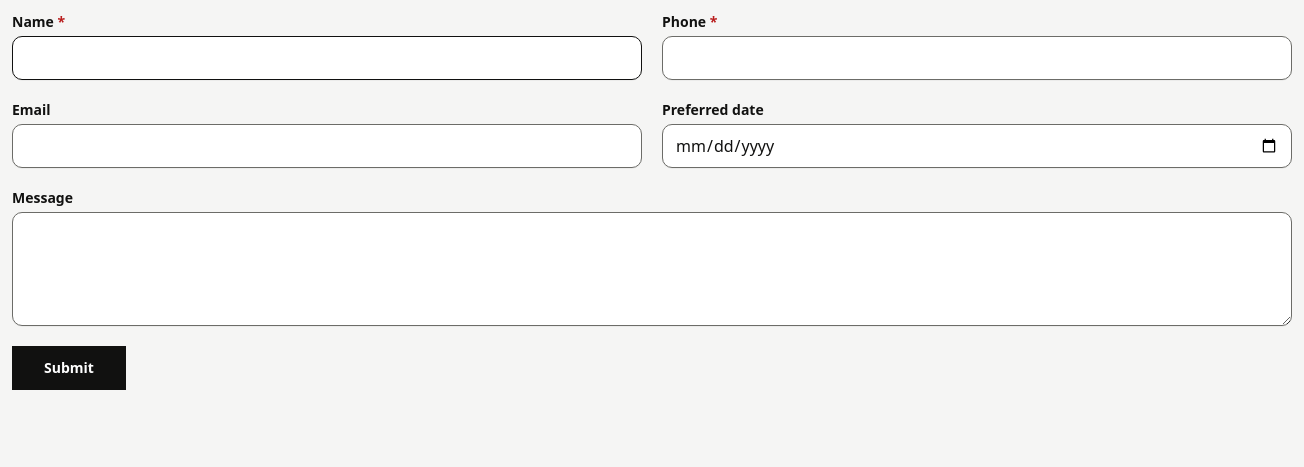
Test case: ViewingForm (F7, SC-4, SC-5, SC-6, E1) › shows the persistent rate-limit message and keeps the entered data on a 429 (SC-6)
In the field labelled "Name *": (327, 58) [12,36,642,80], type "Juan Dela Cruz"
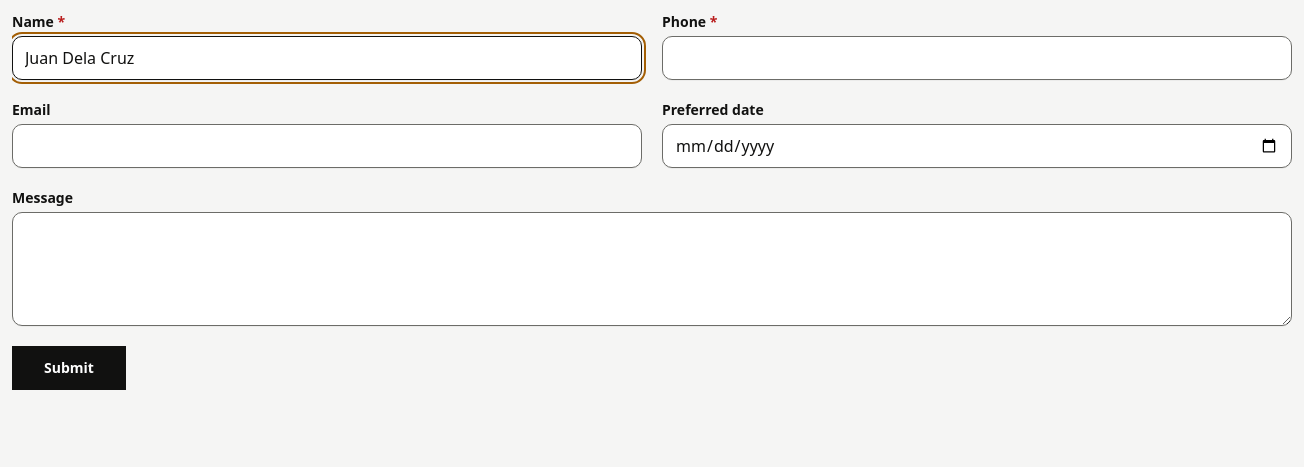
In the field labelled "Phone *": (977, 58) [662,36,1292,80], type "0917 123 4567"
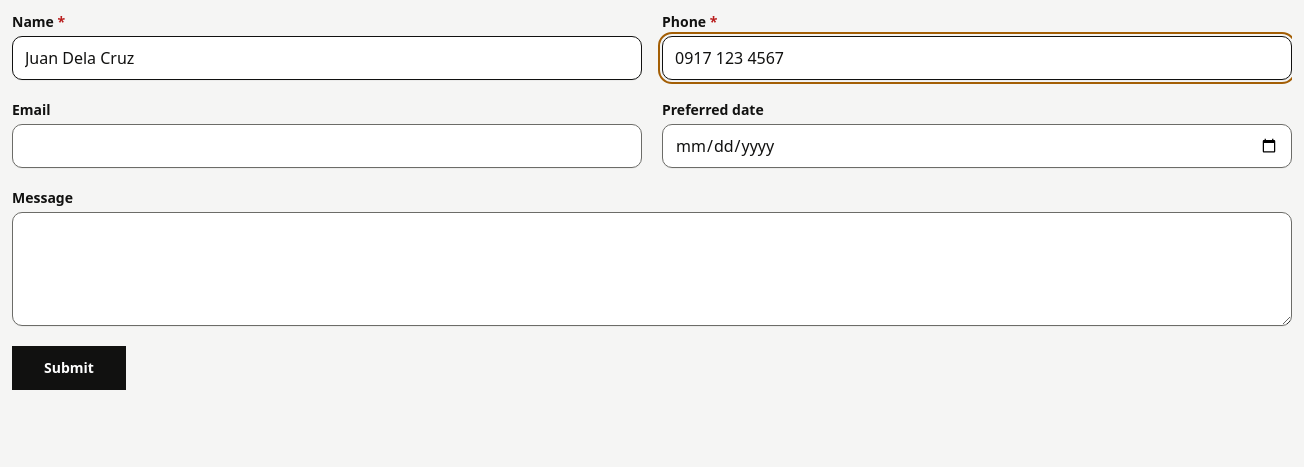
Click the button "Submit": (69, 368) [12,346,126,390]
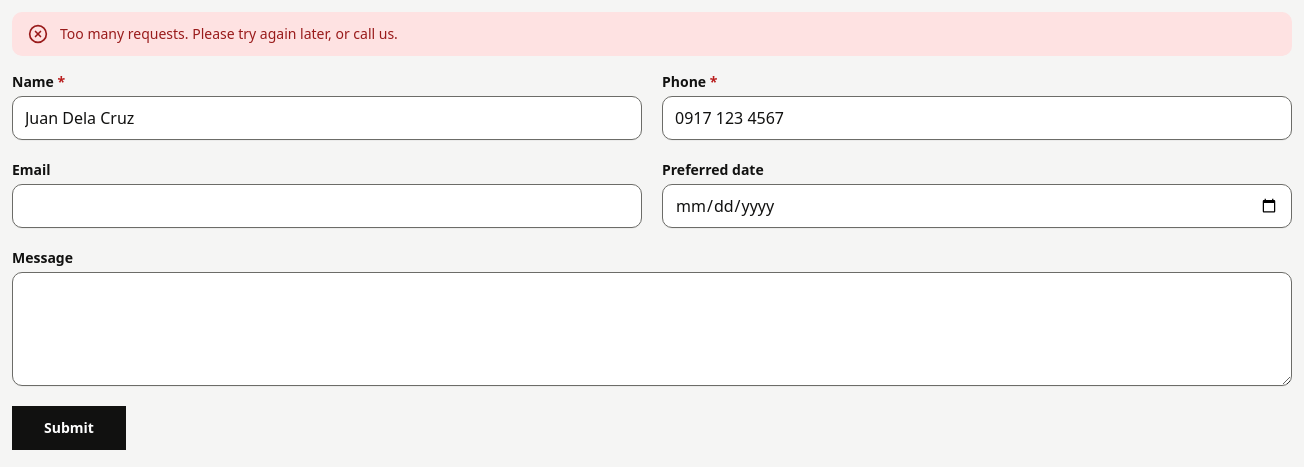
Expected: the text "Too many requests. Please try again later, or call us." is shown, [60,24,398,44]
